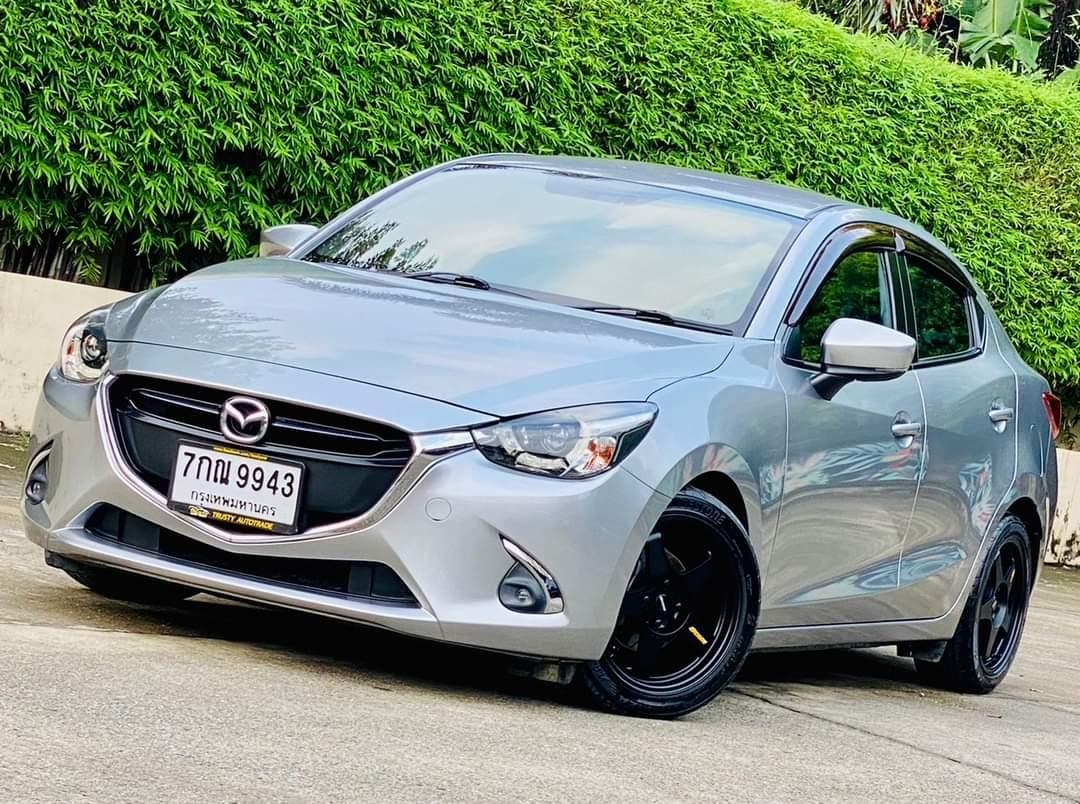license-plate: (163, 432, 311, 540)
